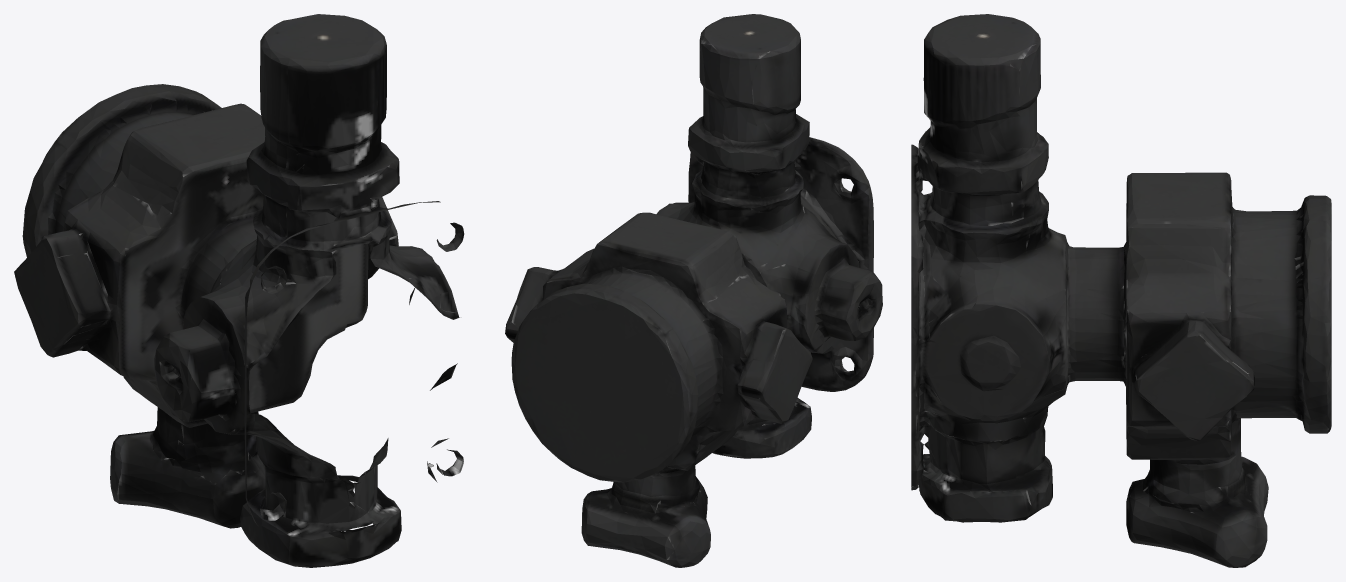
The model's file is Knobs.glb.
3 views of the same model, side by side, from view 1: azimuth 30°, elevation 25°; view 2: azimuth 150°, elevation 25°; view 3: azimuth 270°, elevation 25° (orthographic). The views are drawn at different scales.
Parts seen in each view (by area): view 1: Meshy_AI_Camera_Flash_System_0113040450_texture; view 2: Meshy_AI_Camera_Flash_System_0113040450_texture; view 3: Meshy_AI_Camera_Flash_System_0113040450_texture.
Part boxes in pixels (x1,y1,x2,y2): Meshy_AI_Camera_Flash_System_0113040450_texture: (14,14,464,567); Meshy_AI_Camera_Flash_System_0113040450_texture: (505,14,882,567); Meshy_AI_Camera_Flash_System_0113040450_texture: (911,14,1331,567).
Size of the model in its own units: 0.3523 by 0.5726 by 0.4328.
1 material, 1 textured.
